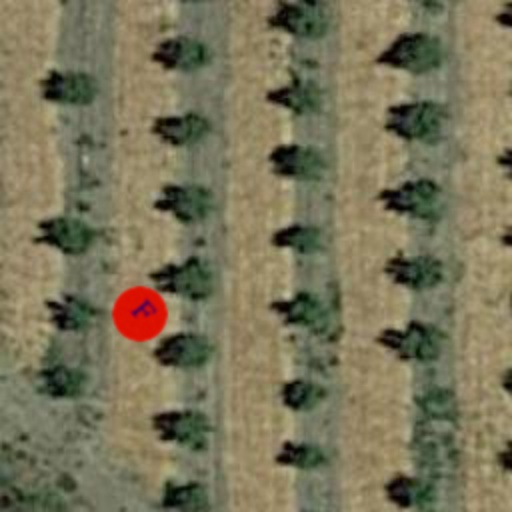circle: (100, 274, 180, 354)
